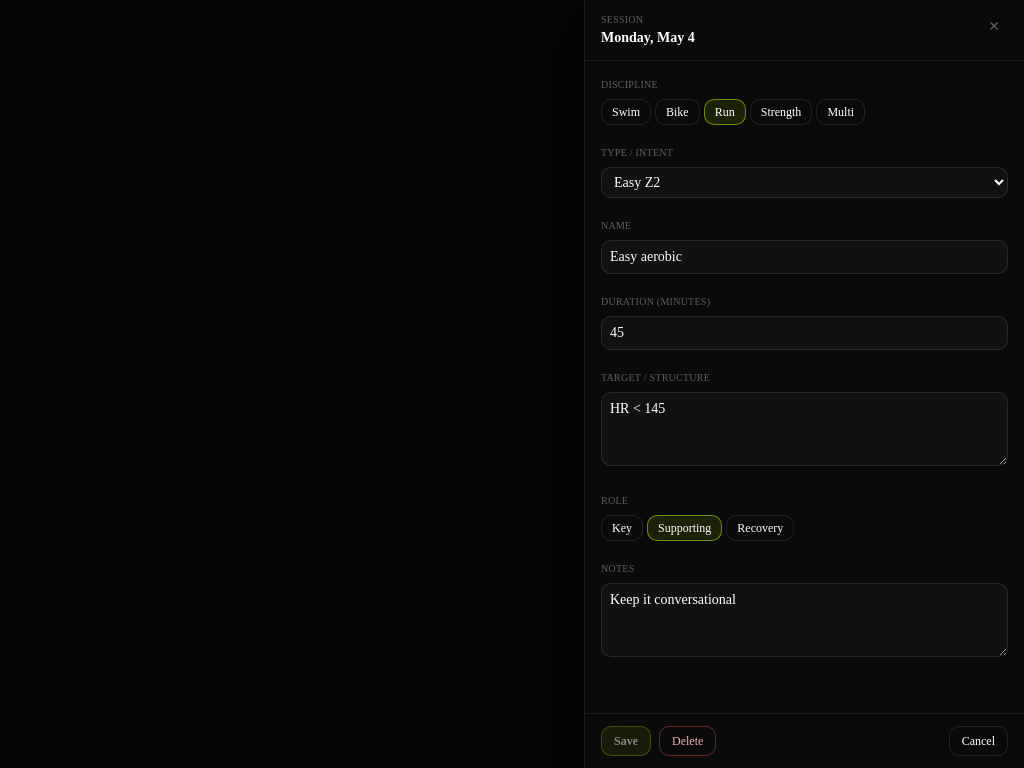
Test: SessionDrawer › disables Save until a field is edited
Expected: the button "Save" is disabled, [601,726,651,756]
Replace the text in the number field labelled "Duration (minutes)" with "60" at (804, 333), box [601,316,1008,350]
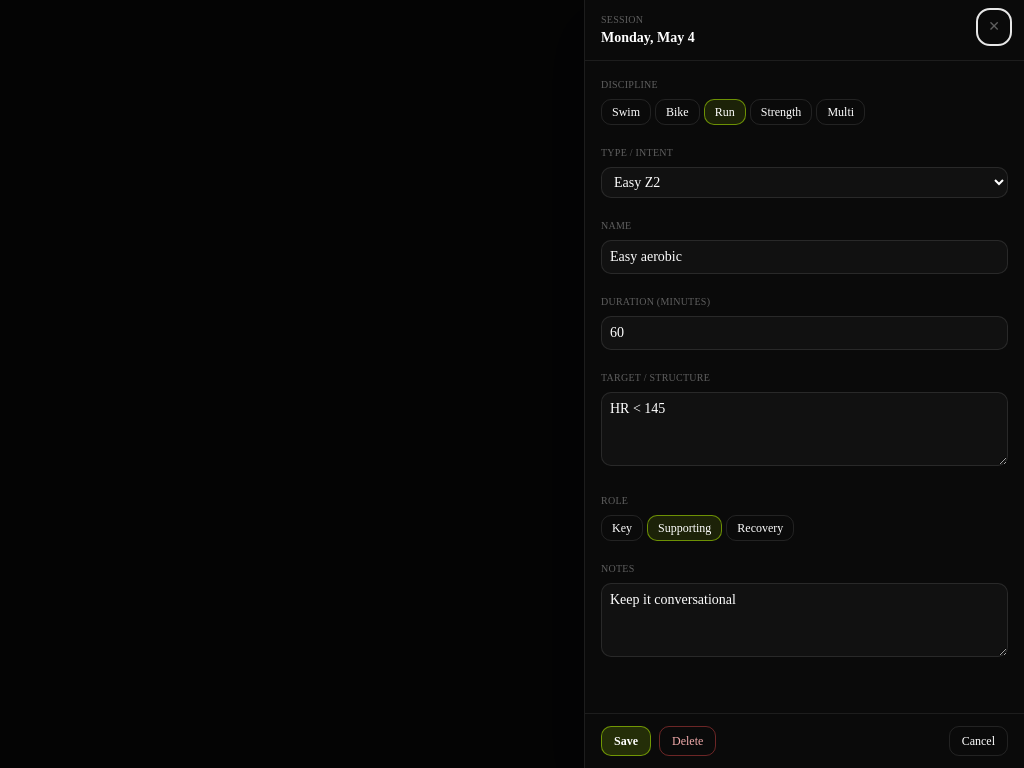
Now the button "Save" is enabled, box [601,726,651,756]
